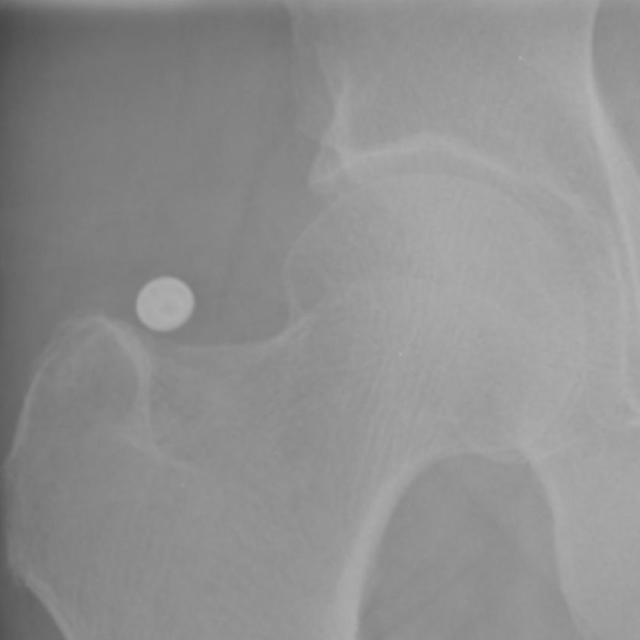Fitted_femural_head: (306, 168, 432, 306)
